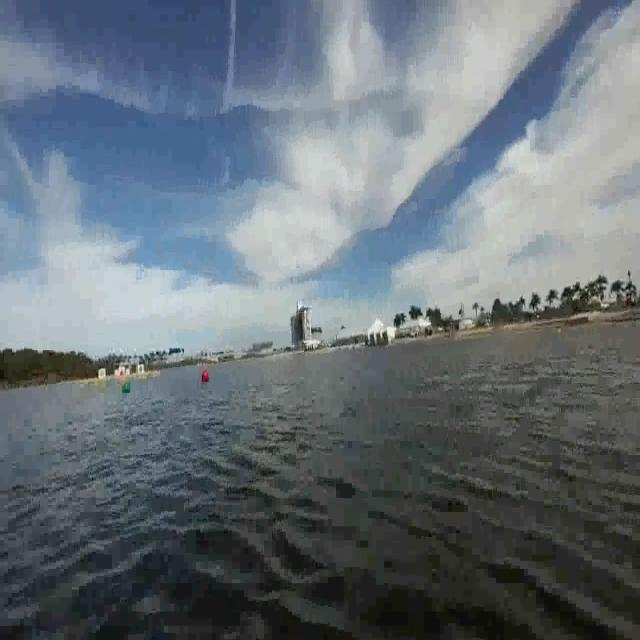green-buoy: (121, 382, 129, 394)
red-buoy: (201, 367, 211, 383)
